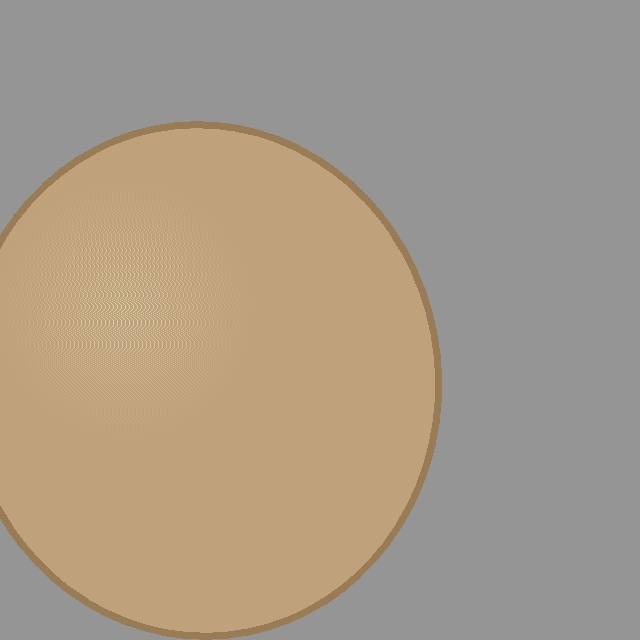lens: (0, 125, 437, 635)
